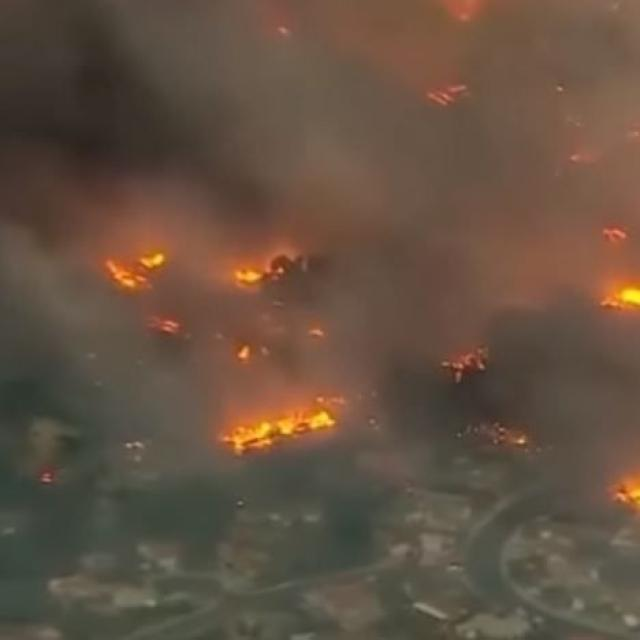Fire: (228, 406, 340, 465), (102, 238, 176, 299), (250, 244, 282, 290)
Smoke: (26, 23, 631, 484)
